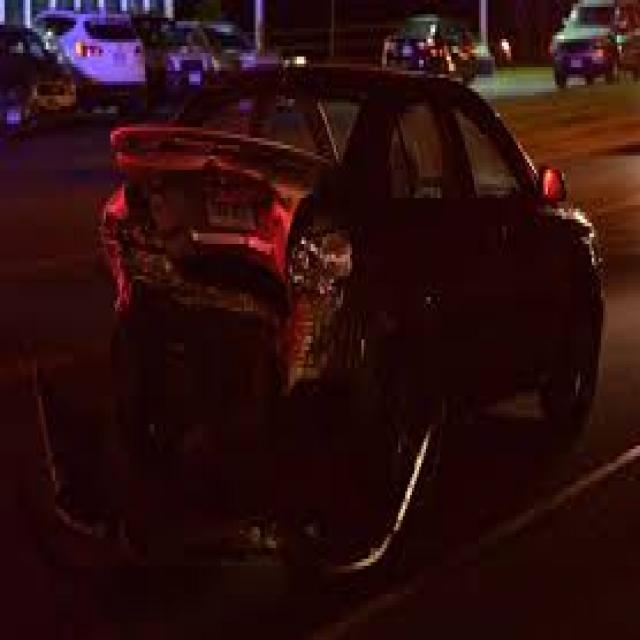moderate: (115, 120, 428, 409)
